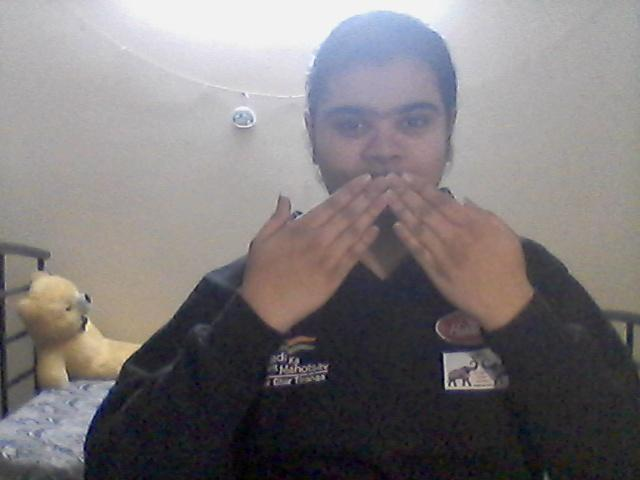thank you: (229, 165, 533, 334)
